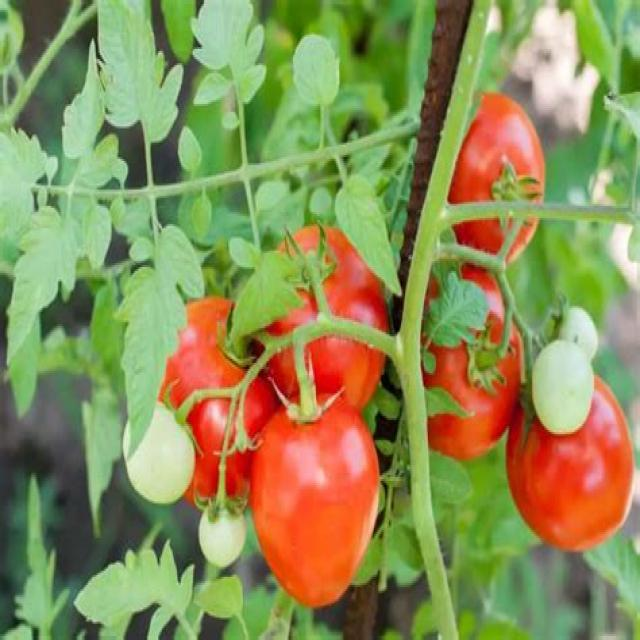Tomato: (251, 402, 380, 609), (509, 388, 638, 550), (416, 288, 520, 440), (462, 82, 544, 260)
